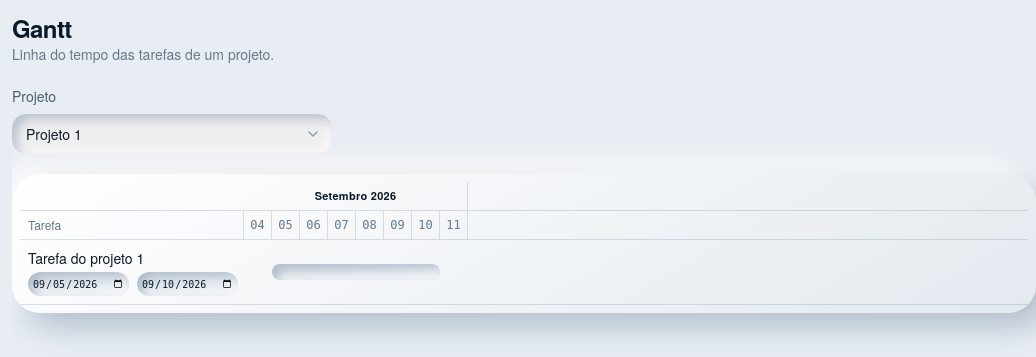
Test: Gantt page › switches the visible tasks when a different project is selected
Expected: the text "Tarefa do projeto 1" is shown, [28, 248, 144, 268]
Select "Projeto 2" in the dropdown labelled "Projeto" at {"x": 172, "y": 134}, box [12, 114, 332, 154]
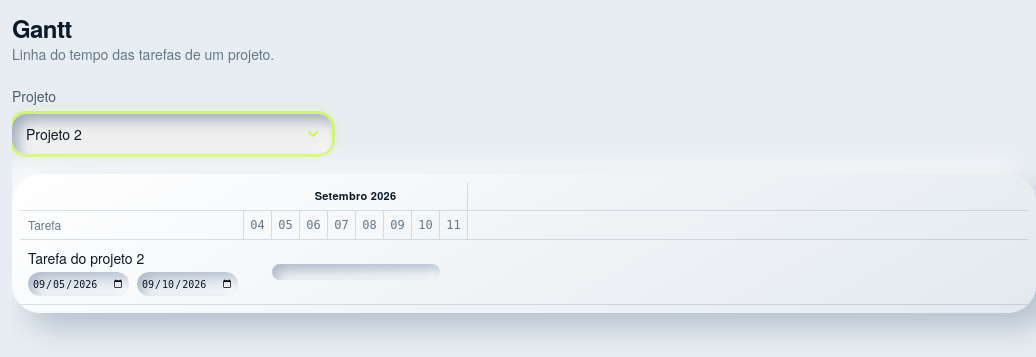
Result: the text "Tarefa do projeto 2" is shown at [28, 248, 144, 268]
Result: the text "Tarefa do projeto 1" is gone
